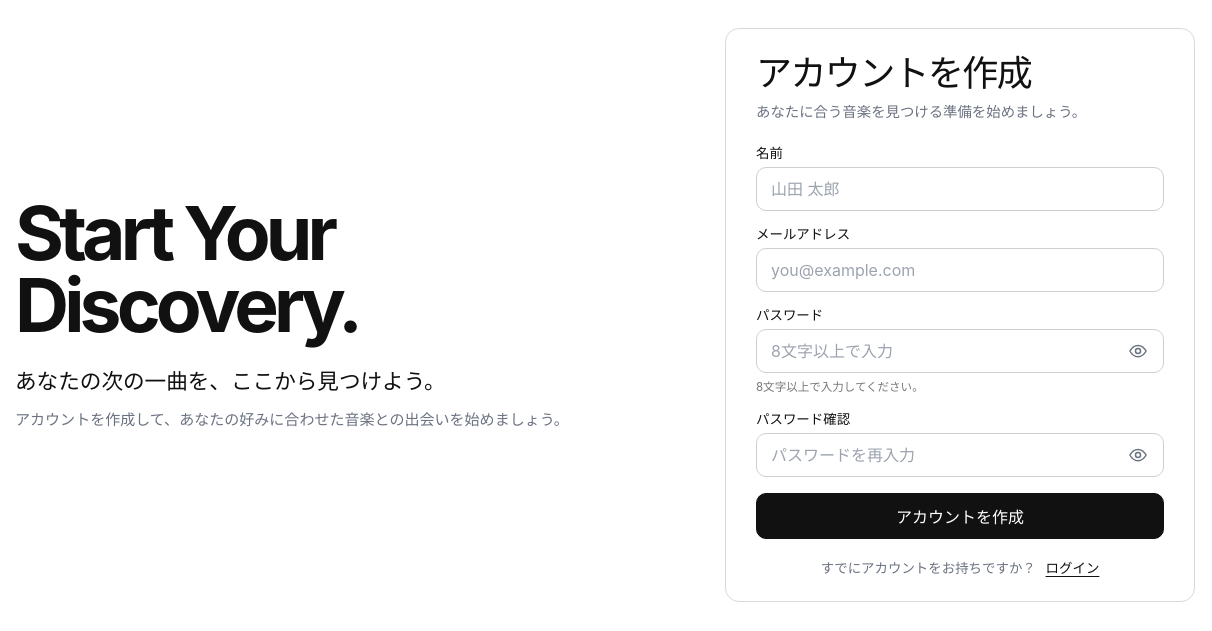
Scenario: SignupPage › validates name boundaries
This screenshot has width=1212, height=631.
Step 1. Type "user@example.com" into the field labelled "メールアドレス" → (960, 270), box [756,248,1164,292]
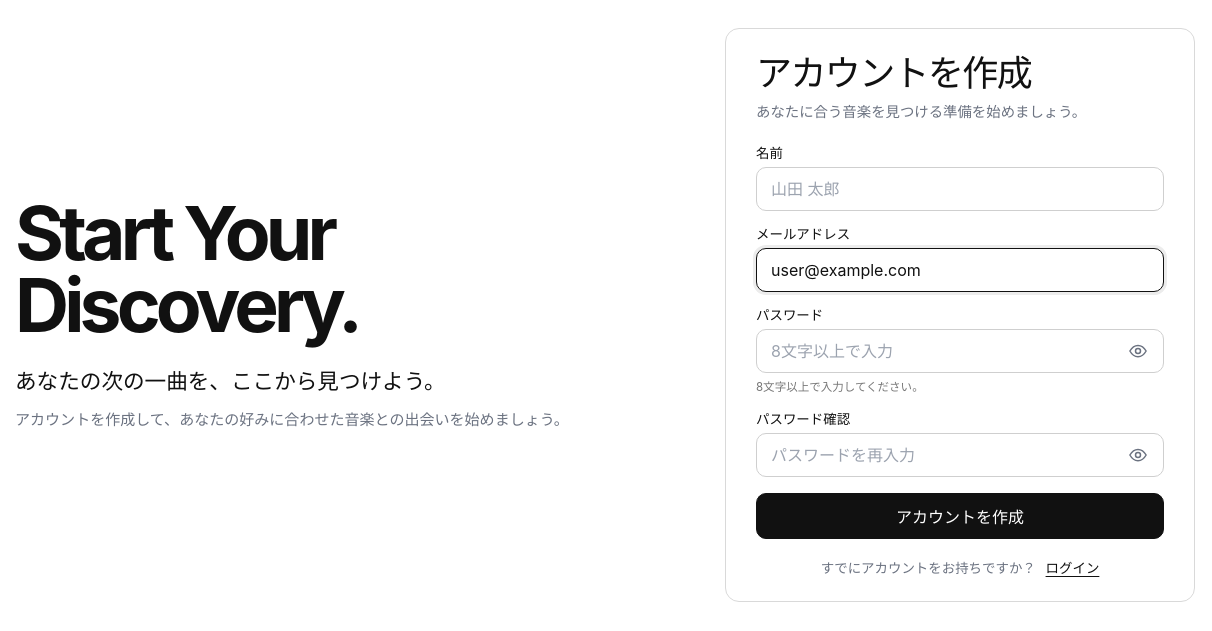
Step 2. Type "password" into the password field labelled "パスワード" → (960, 351), box [756,329,1164,373]
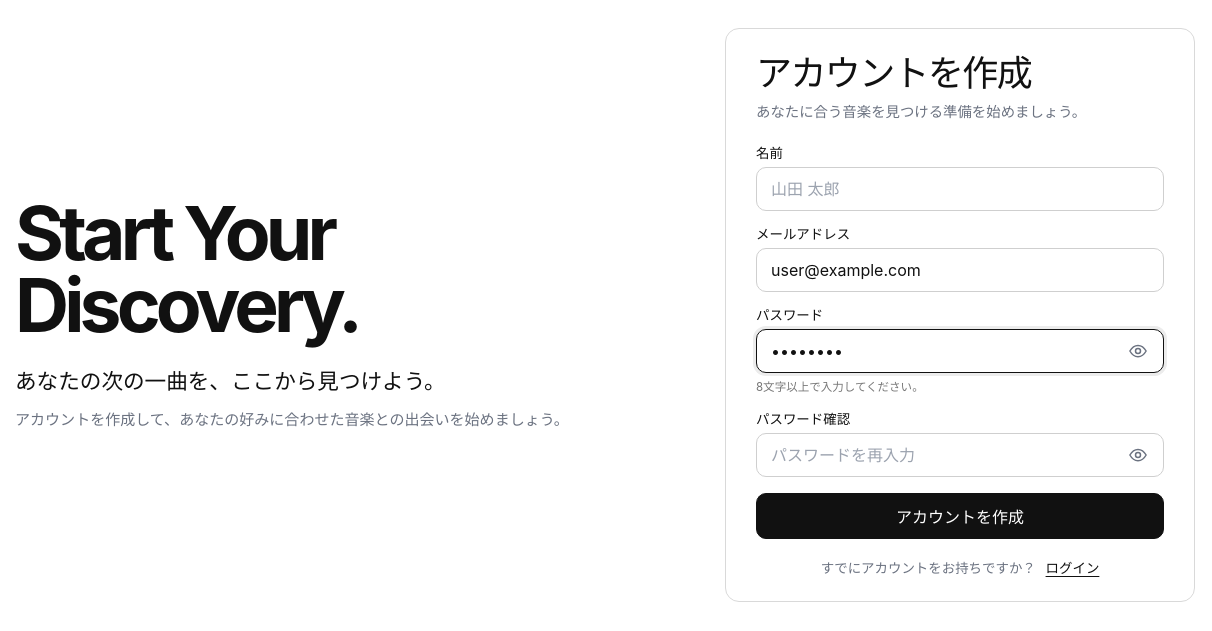
Step 3. Type "password" into the password field labelled "パスワード確認" → (960, 455), box [756,433,1164,477]
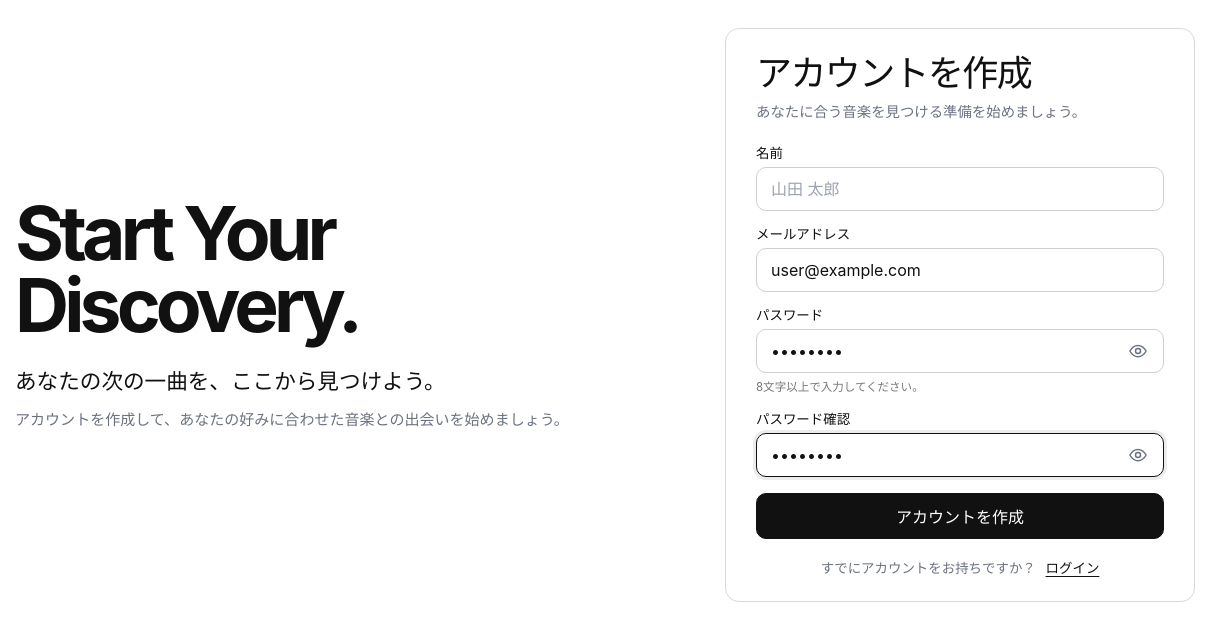
Step 4. Click the button "アカウントを作成" → (960, 516), box [756,493,1164,539]
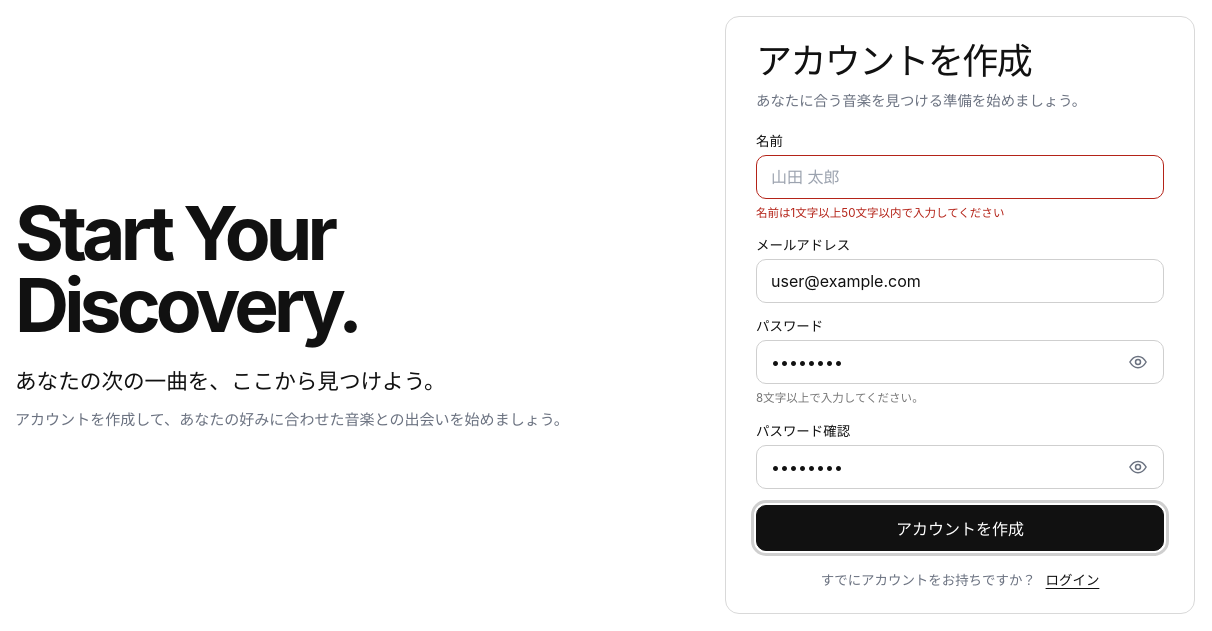
Expected: the text "名前は1文字以上50文字以内で入力してください" is shown, [756,206,1004,220]
